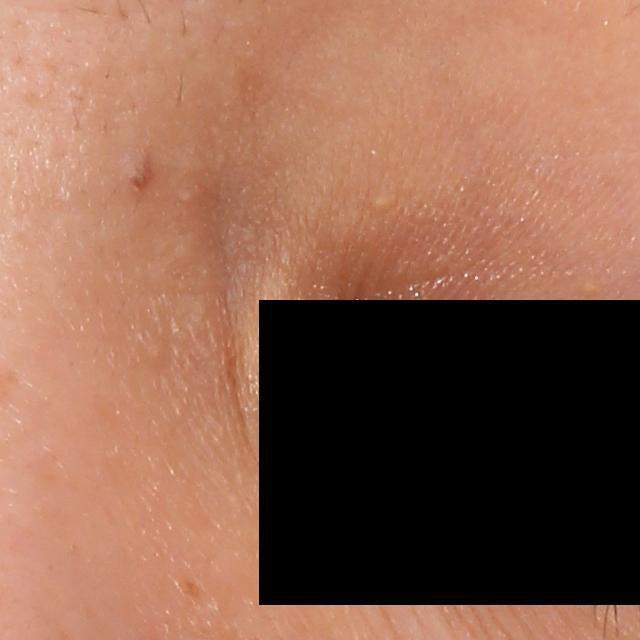comedo: (137, 341, 170, 371)
